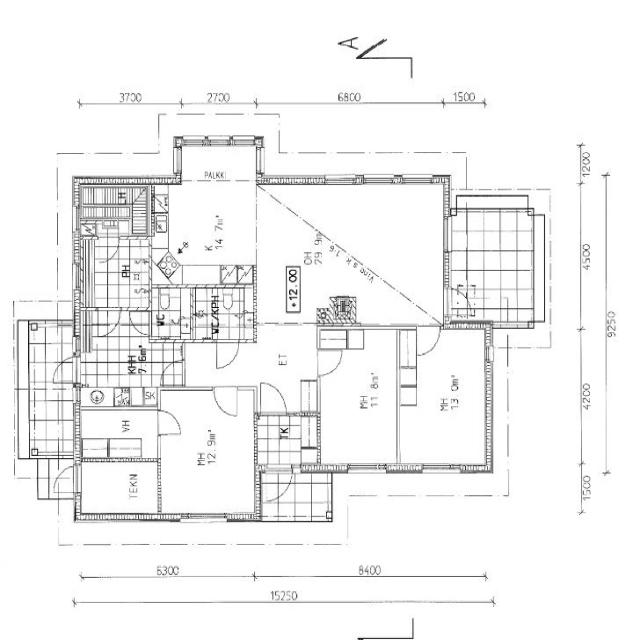door: (318, 326, 401, 470), (256, 380, 288, 418), (211, 383, 240, 420), (314, 346, 346, 379), (214, 336, 242, 372), (155, 406, 185, 438), (268, 466, 294, 502), (415, 324, 442, 358), (52, 464, 78, 495), (51, 358, 76, 388), (129, 313, 150, 338)
window: (177, 508, 230, 530), (71, 242, 87, 302), (346, 460, 388, 478), (420, 461, 463, 478), (400, 171, 436, 188), (323, 172, 359, 188), (362, 172, 397, 188), (358, 319, 396, 333), (172, 146, 185, 175), (181, 134, 207, 148), (206, 134, 232, 148)
zone: (399, 329, 491, 470), (159, 389, 257, 519), (318, 327, 402, 468), (157, 182, 258, 283), (81, 233, 156, 308), (72, 458, 157, 519), (76, 408, 160, 460), (255, 414, 322, 468), (179, 145, 257, 183), (150, 287, 195, 340)
